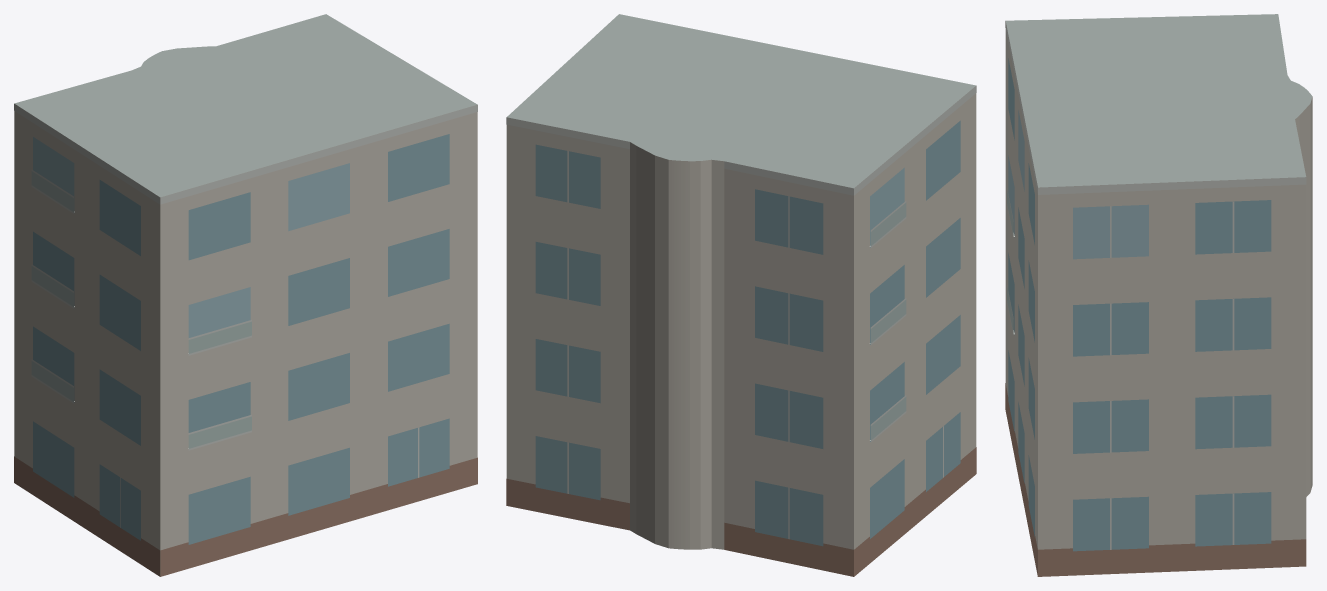
The model's file is survey-upis-32917441.glb.
3 renders of one model, left to right at view 1: azimuth 30°, elevation 25°; view 2: azimuth 150°, elevation 25°; view 3: azimuth 270°, elevation 25°, orthographic. The views are drawn at different scales.
Parts seen in each view (by area): view 1: survey-upis-32917441.tmp; view 2: survey-upis-32917441.tmp; view 3: survey-upis-32917441.tmp.
Part boxes in pixels (bbox=[...]): survey-upis-32917441.tmp: bbox=[14, 14, 477, 576]; survey-upis-32917441.tmp: bbox=[506, 14, 976, 576]; survey-upis-32917441.tmp: bbox=[1005, 14, 1312, 576].
Bounding box in the file's own units: 12.24 × 12.8 × 9.15.
